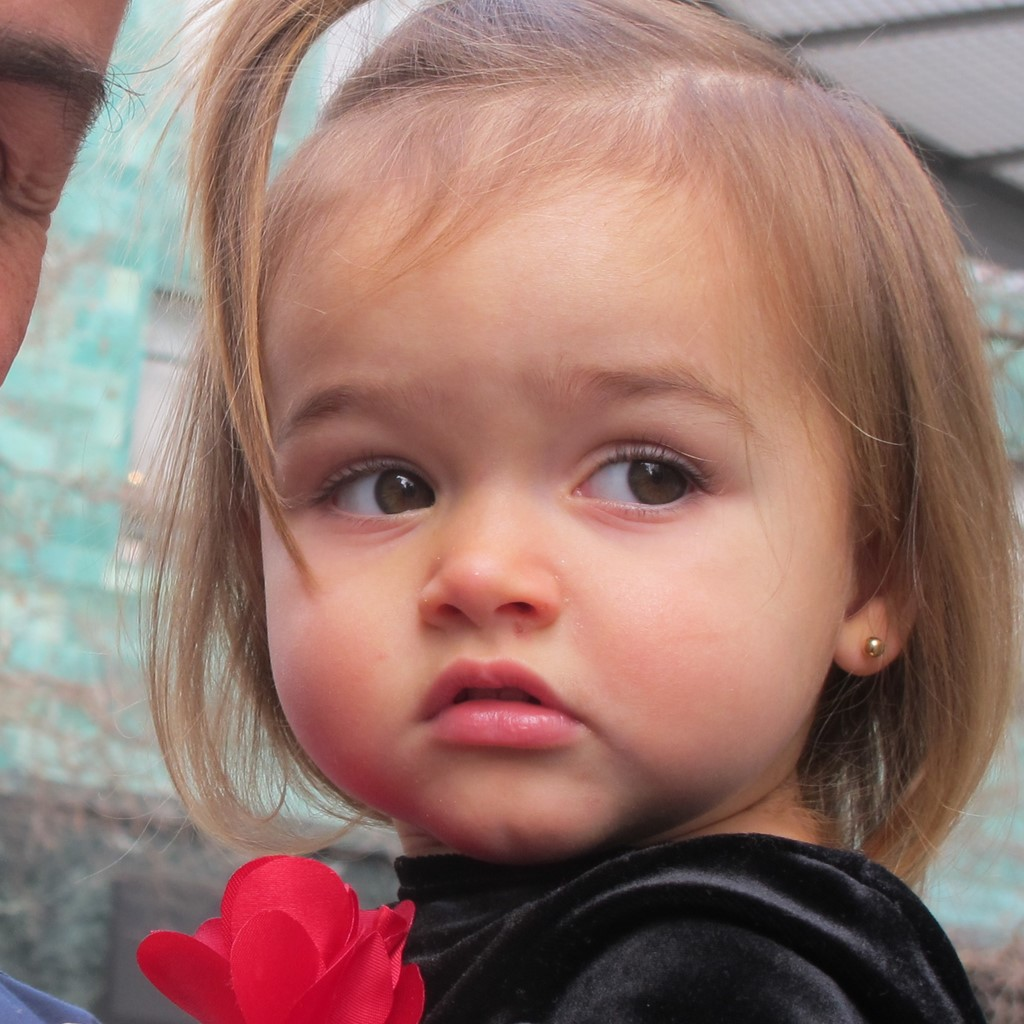sin_mascara: (241, 68, 840, 848)
